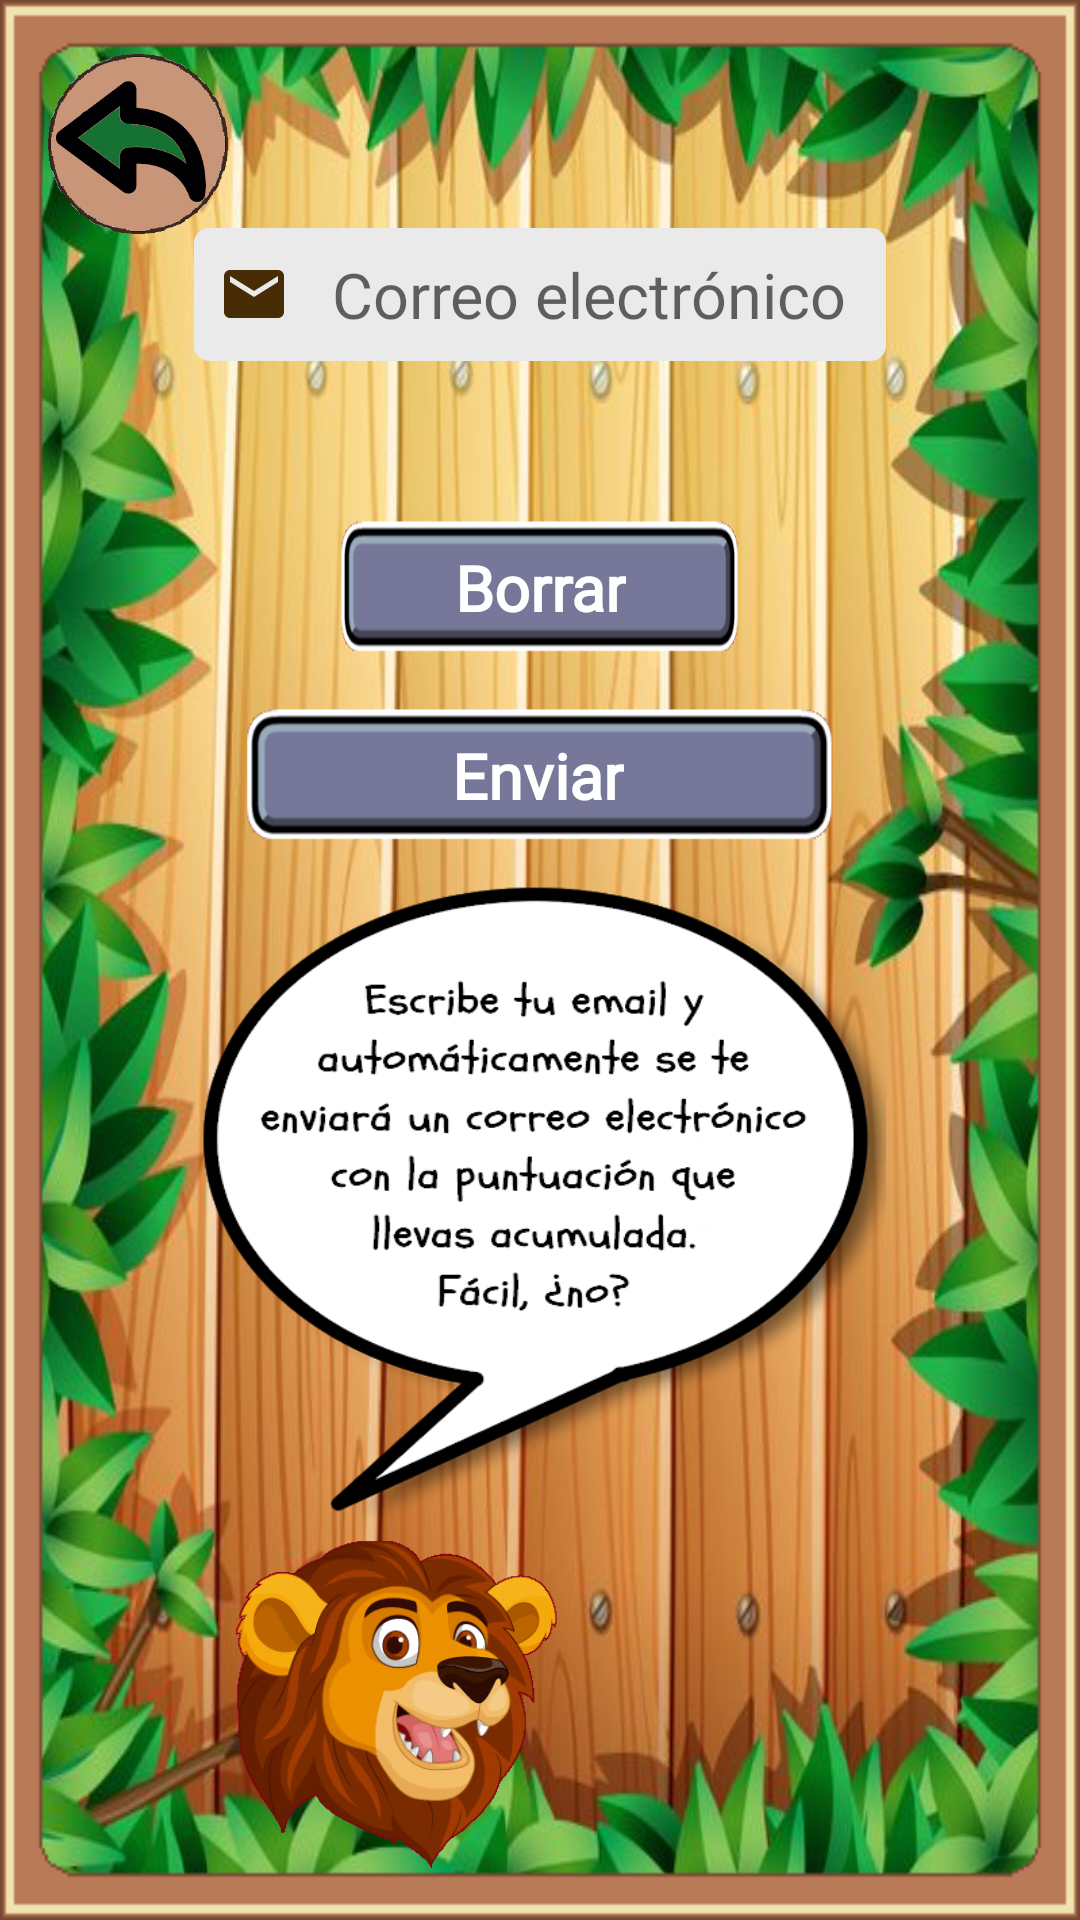

Where to tap for icons on this 1080*1920 app screen, as point (x, y):
back: point (138, 144)
León: point (398, 1704)
